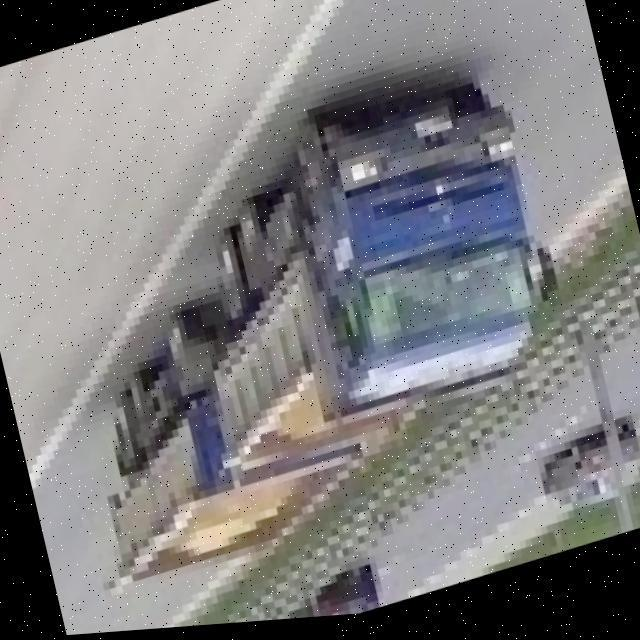truck: (35, 56, 602, 604)
